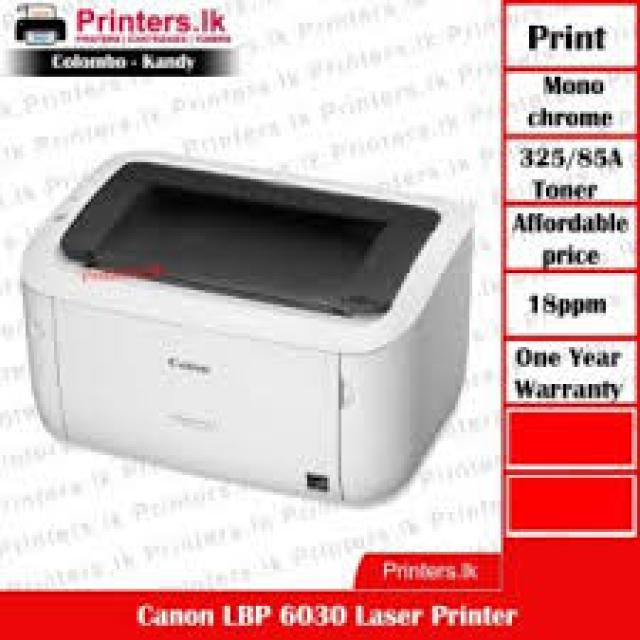printer: (17, 148, 472, 503)
